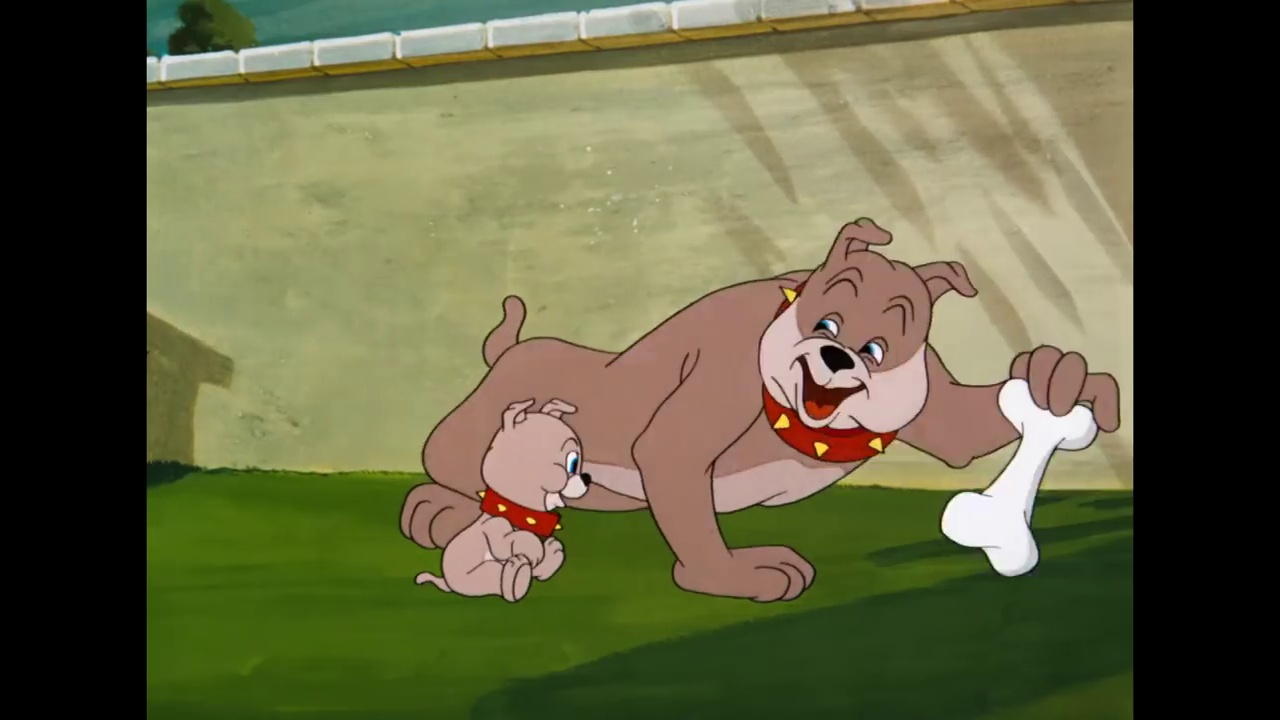spike: (752, 217, 980, 466)
